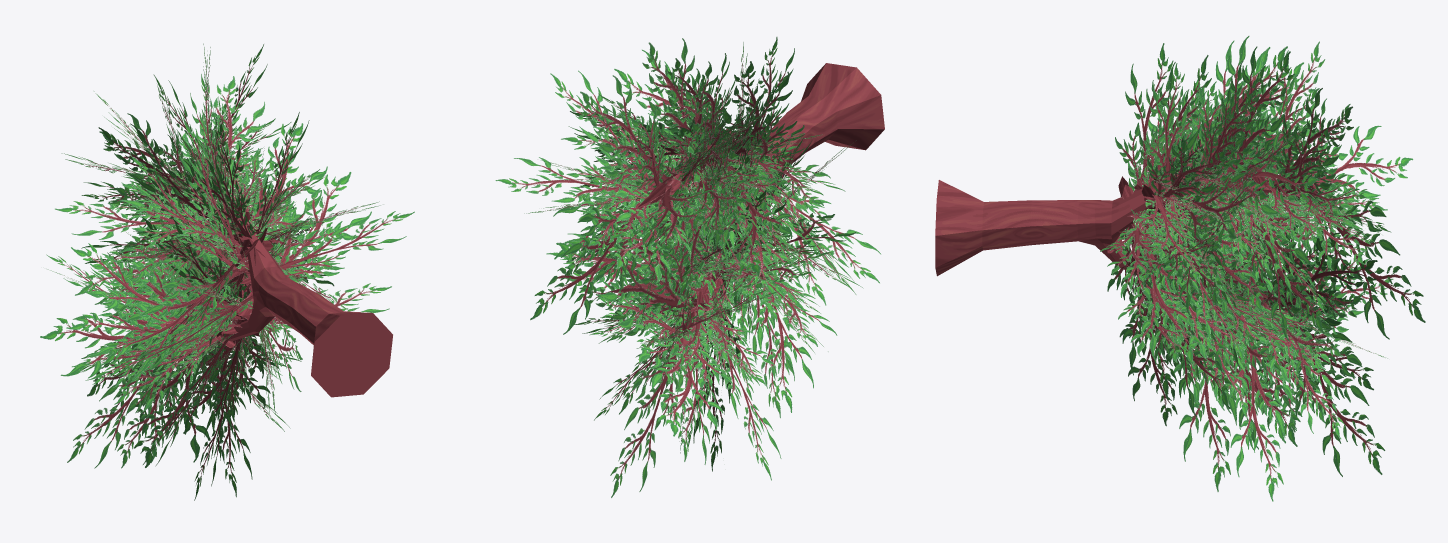
File: Tree1.fbx
3 renders of one model, left to right at view 1: azimuth 30°, elevation 25°; view 2: azimuth 150°, elevation 25°; view 3: azimuth 270°, elevation 25°, orthographic. The views are drawn at different scales.
Parts seen in each view (by area): view 1: Tree 1; view 2: Tree 1; view 3: Tree 1.
Part boxes in pixels (x1,y1,x2,y2): Tree 1: (40,43,414,500); Tree 1: (495,37,884,497); Tree 1: (935,36,1425,501).
Size of the model in its own units: 631 by 814 by 743.
2 materials, 2 textured.
